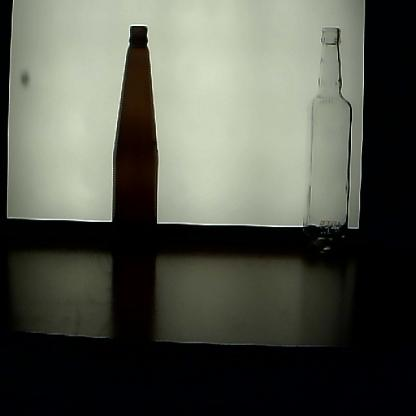Can: (298, 24, 356, 266), (107, 25, 161, 274)
